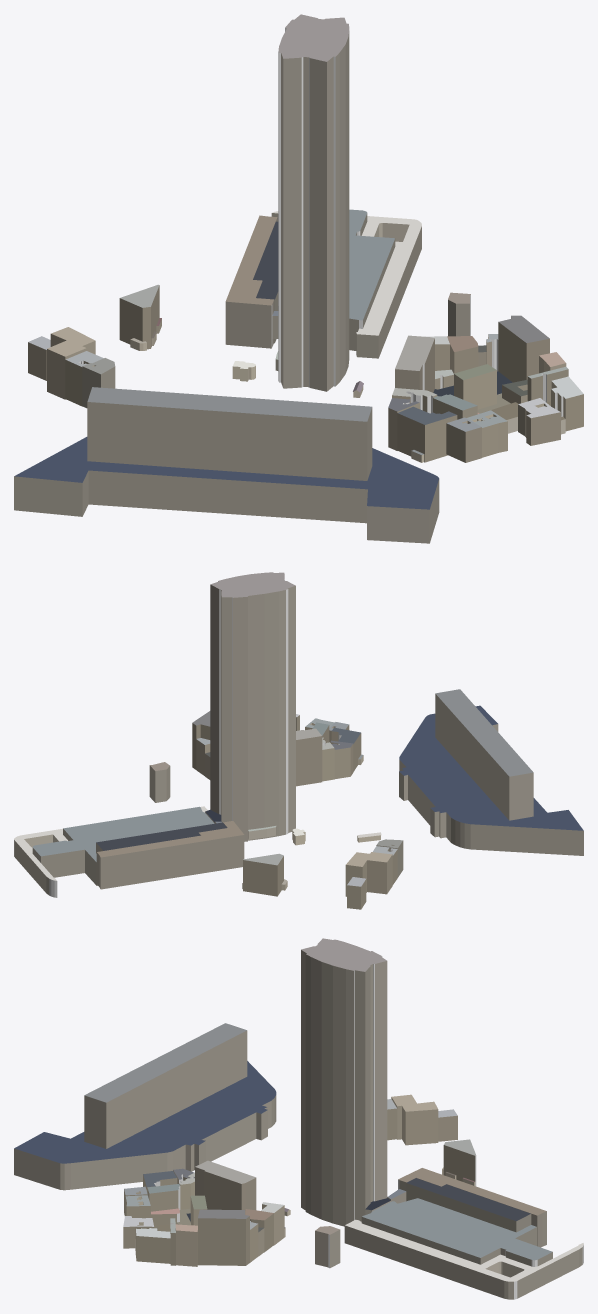
3 views of the same model, one above another, from view 1: azimuth 30°, elevation 25°; view 2: azimuth 150°, elevation 25°; view 3: azimuth 270°, elevation 25° (orthographic). The views are drawn at different scales.
Parts seen in each view (by area): view 1: tuile; view 2: tuile; view 3: tuile.
Part boxes in pixels (<box>): tuile: <box>14,14,583,543</box>; tuile: <box>14,572,583,909</box>; tuile: <box>14,938,583,1299</box>.
Size of the model in its own units: 392 by 215 by 422.
